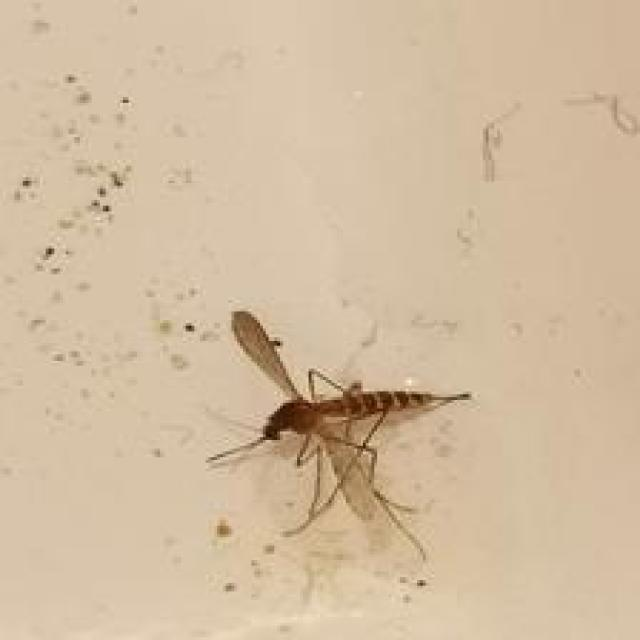Culex: (204, 308, 473, 563)
